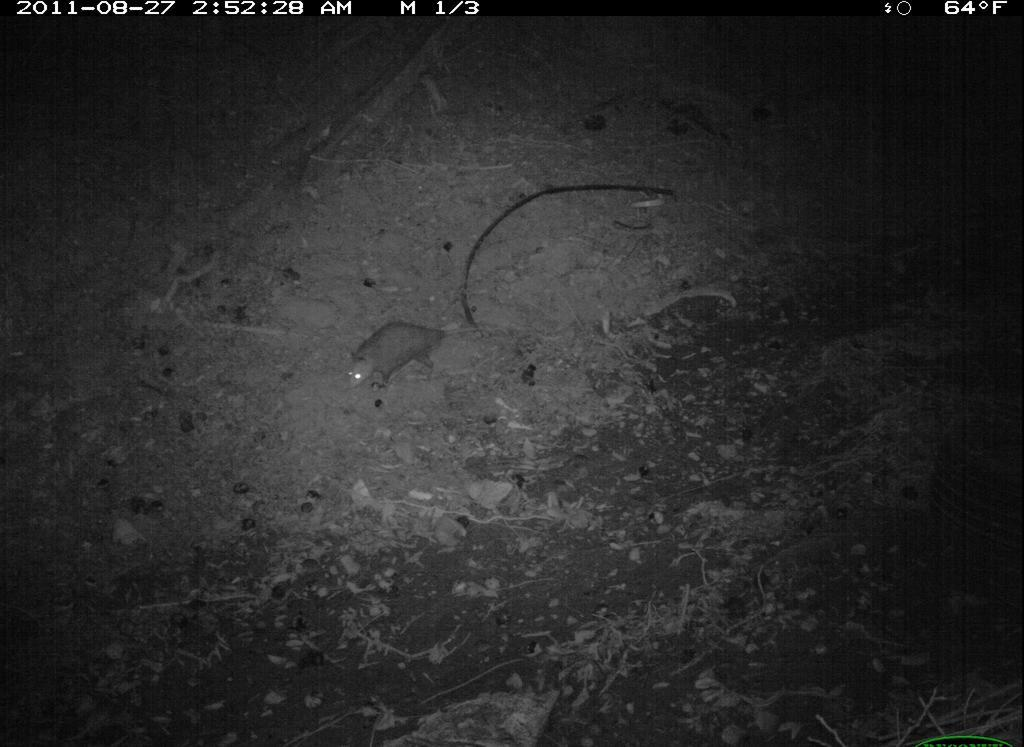opossum: (333, 315, 502, 400)
